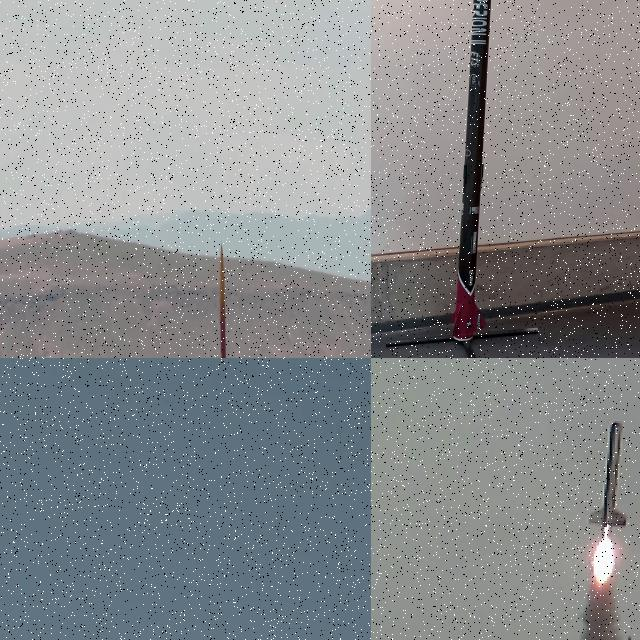Rocket: (452, 0, 491, 341), (588, 420, 628, 528), (218, 244, 233, 358)
